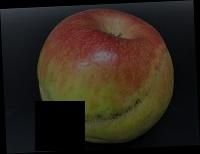rotten apple: (33, 7, 177, 143)
